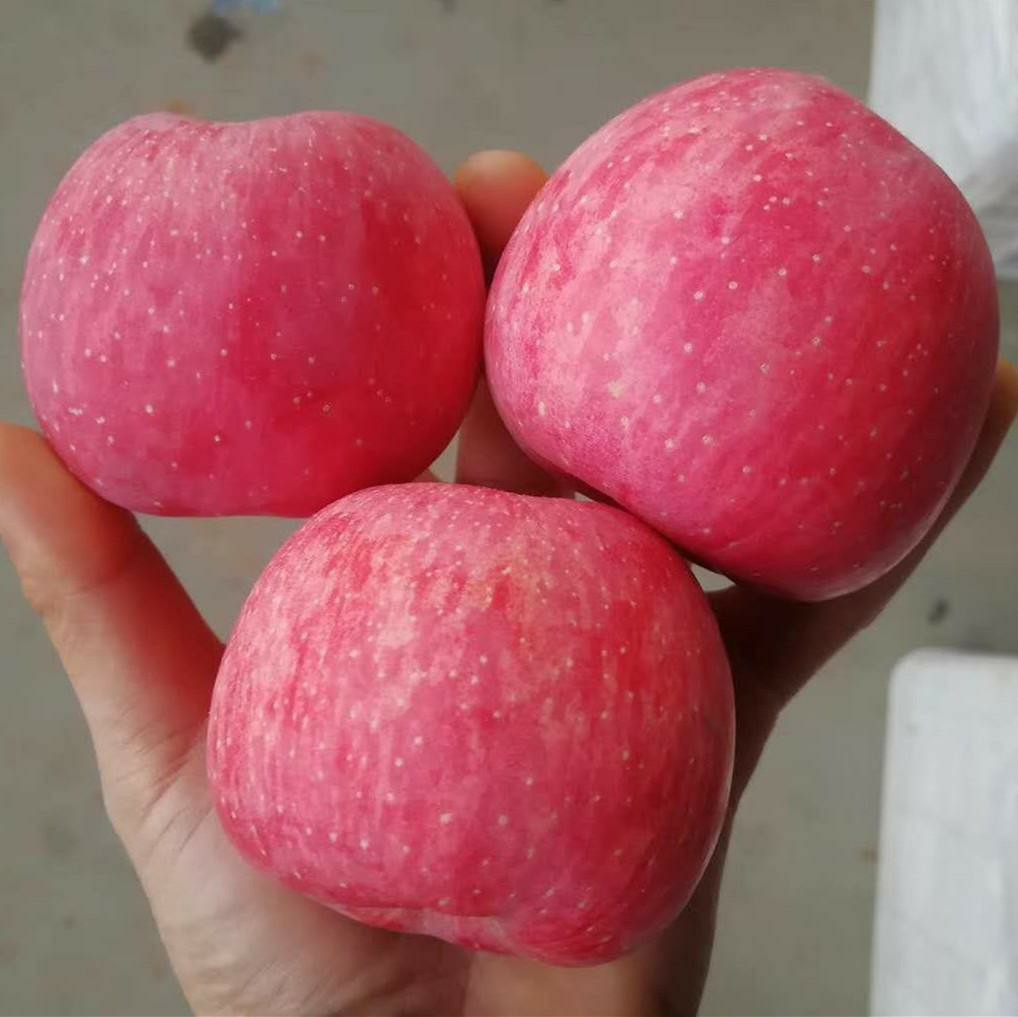fresh_apple: (485, 69, 998, 596), (212, 483, 751, 965), (38, 112, 478, 514)
